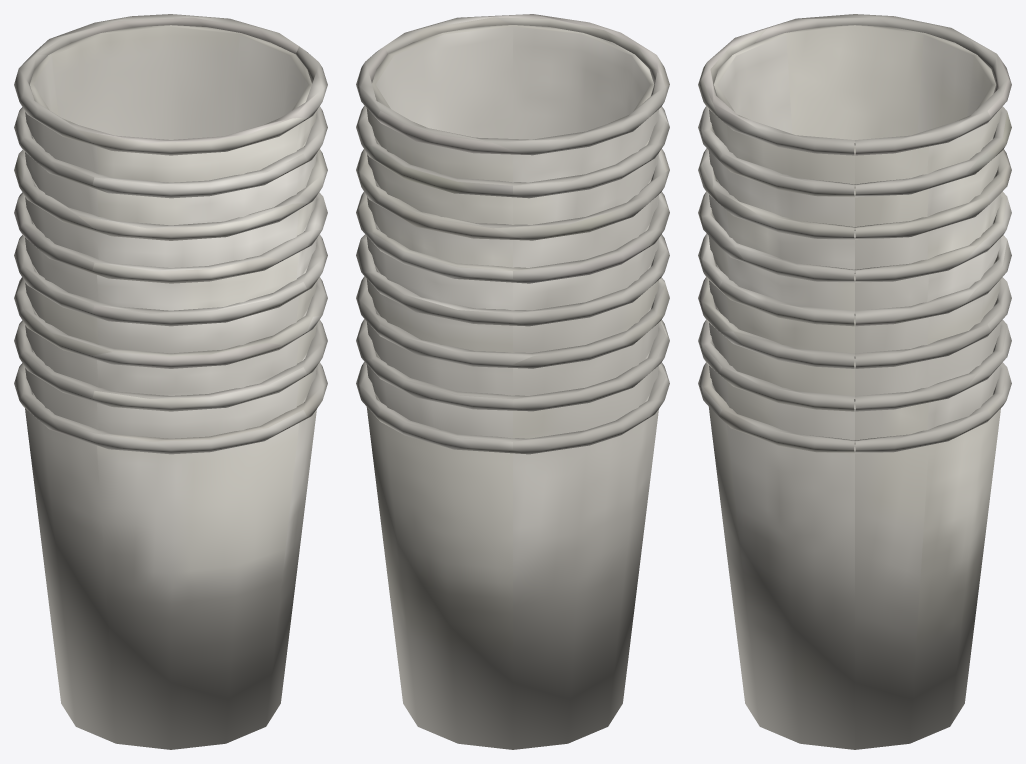
Rendered from paper_cups.glb.
3 views of the same model, side by side, from view 1: azimuth 30°, elevation 25°; view 2: azimuth 150°, elevation 25°; view 3: azimuth 270°, elevation 25° (orthographic).
Visible parts, largest first — view 1: prop_paper_cups_felt; view 2: prop_paper_cups_felt; view 3: prop_paper_cups_felt.
Boxes of the visible parts, x1,y1,x2,y2 form: prop_paper_cups_felt: (14,14,327,749); prop_paper_cups_felt: (356,14,669,749); prop_paper_cups_felt: (698,14,1011,749).
Size of the model in its own units: 0.16 by 0.3521 by 0.16.
Materials: 1 (1 with a texture image).
